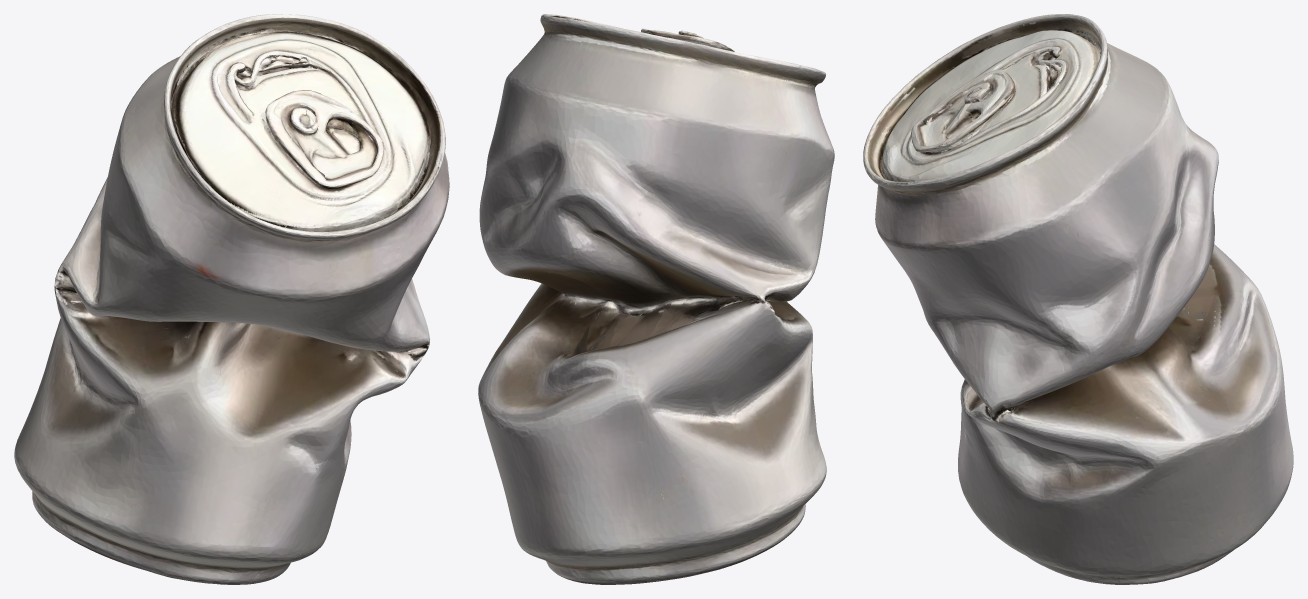
The model's file is Kaleng.glb.
3 renders of one model, left to right at view 1: azimuth 30°, elevation 25°; view 2: azimuth 150°, elevation 25°; view 3: azimuth 270°, elevation 25°, orthographic. The views are drawn at different scales.
Visible parts, largest first — view 1: geometry_0; view 2: geometry_0; view 3: geometry_0.
Boxes of the visible parts, left/top/right/bottom form: geometry_0: left=14, top=14, right=449, bottom=584; geometry_0: left=478, top=14, right=834, bottom=584; geometry_0: left=863, top=14, right=1293, bottom=584.
Bounding box in the file's own units: 1.34 × 2 × 1.49.
1 material, 1 textured.
